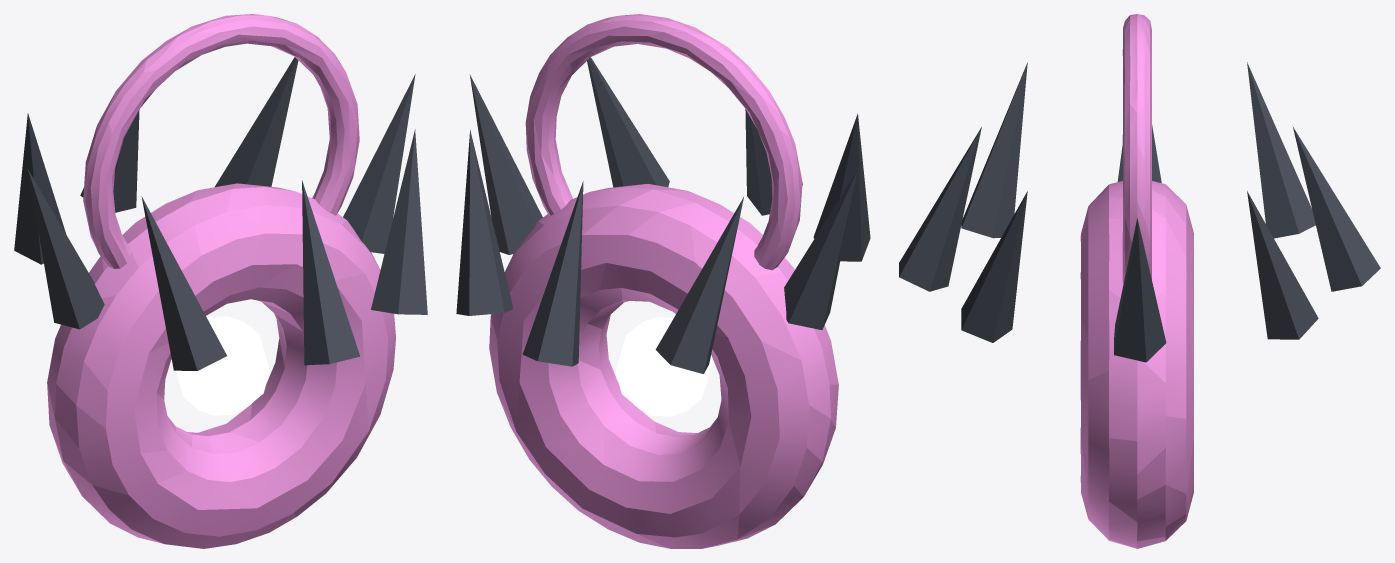
File: SM_Boss_Sirenkollektiv_LOD1.fbx
3 renders of one model, left to right at view 1: azimuth 30°, elevation 25°; view 2: azimuth 150°, elevation 25°; view 3: azimuth 270°, elevation 25°, orthographic. The views are drawn at different scales.
Parts seen in each view (by area): view 1: SM_Boss_Sirenkollektiv_LOD1; view 2: SM_Boss_Sirenkollektiv_LOD1; view 3: SM_Boss_Sirenkollektiv_LOD1.
Boxes of the visible parts, left/top/right/bottom form: SM_Boss_Sirenkollektiv_LOD1: left=14, top=14, right=427, bottom=548; SM_Boss_Sirenkollektiv_LOD1: left=456, top=14, right=870, bottom=548; SM_Boss_Sirenkollektiv_LOD1: left=899, top=14, right=1380, bottom=548.
Bounding box in the file's own units: 3.06 × 3.93 × 3.41.
